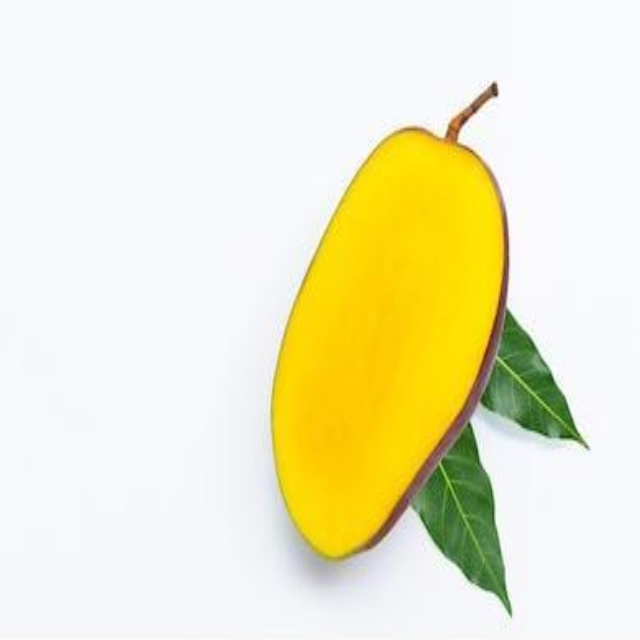mango: (263, 96, 525, 585)
